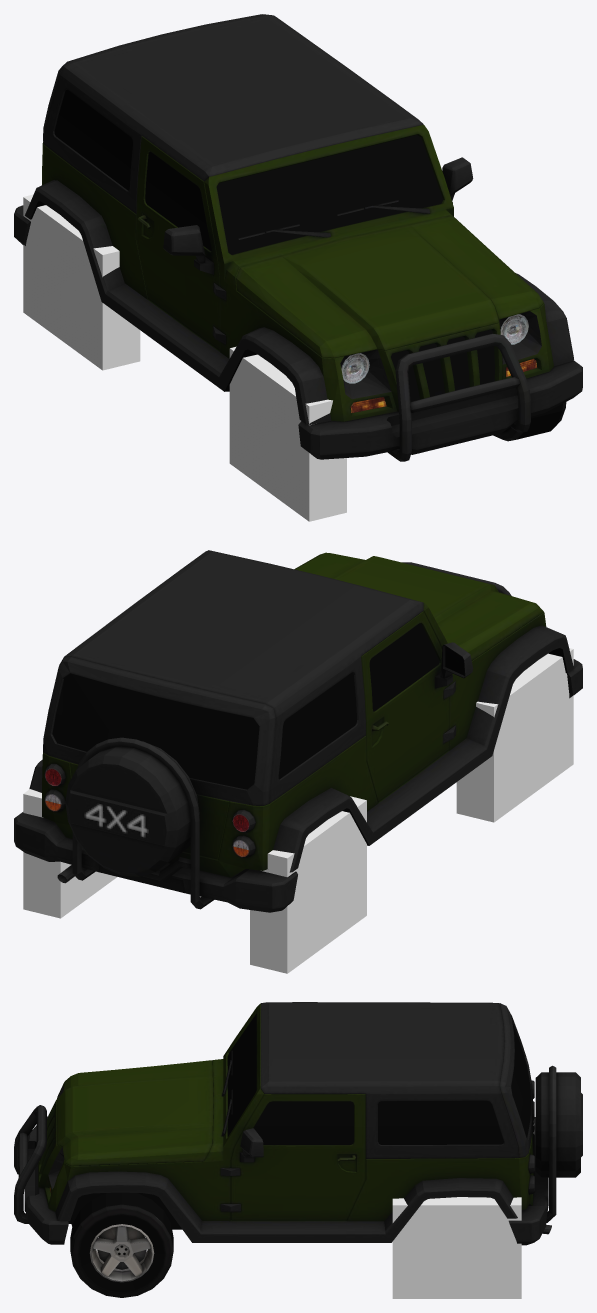
File: offroad.glb
3 renders of one model, top to bottom at view 1: azimuth 30°, elevation 25°; view 2: azimuth 150°, elevation 25°; view 3: azimuth 270°, elevation 25°, orthographic. The views are drawn at different scales.
Visible parts, largest first — view 1: body, wheelFrontRight, wheelBackRight, wheelFrontLeft; view 2: body, wheelBackRight, wheelFrontRight, wheelBackLeft; view 3: body, wheelBackLeft, wheelFrontLeft.
Part boxes in pixels (x1,y1,x2,y2): body: (14,14,582,461); wheelFrontRight: (229,346,346,521); wheelBackRight: (23,194,140,370); wheelFrontLeft: (493,402,566,441); body: (14,550,582,912); wheelBackRight: (250,796,366,973); wheelFrontRight: (456,648,573,822); wheelBackLeft: (23,789,117,918); body: (14,1002,582,1245); wheelBackLeft: (392,1197,521,1298); wheelFrontLeft: (70,1192,173,1297).
Bounding box in the file's own units: 1.96 × 1.57 × 3.94.
Materials: 5 (3 with a texture image).
